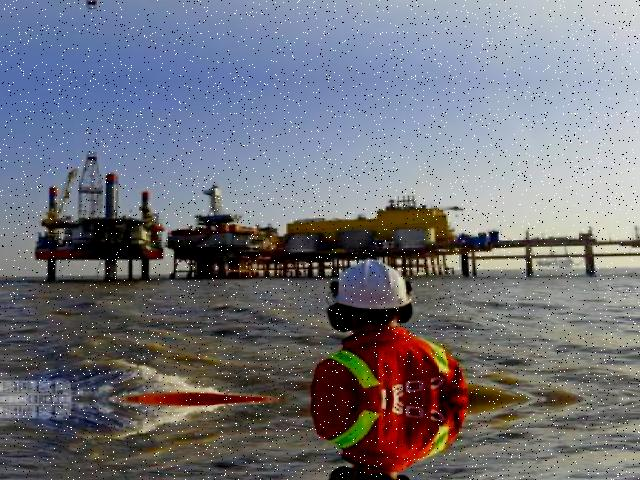Helmet: (323, 253, 423, 315)
